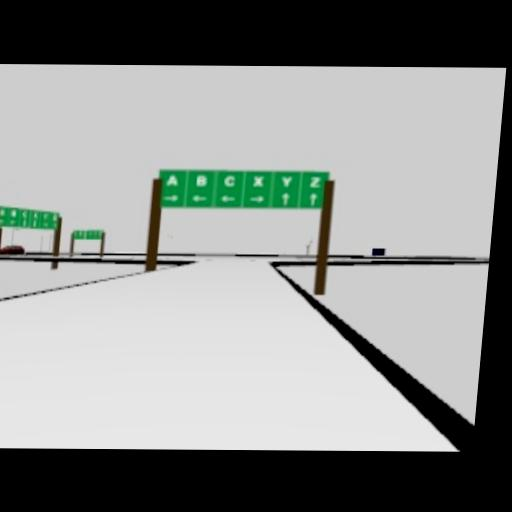A: (166, 174, 179, 187)
B: (195, 175, 208, 187)
C: (223, 175, 236, 187)
Left: (191, 194, 208, 204), (220, 194, 235, 204)
Right: (162, 193, 179, 203), (249, 194, 264, 204)
Straight: (280, 191, 291, 207), (307, 192, 318, 206)
X: (252, 174, 265, 188)
Y: (280, 175, 293, 187)
Z: (309, 175, 320, 187)
